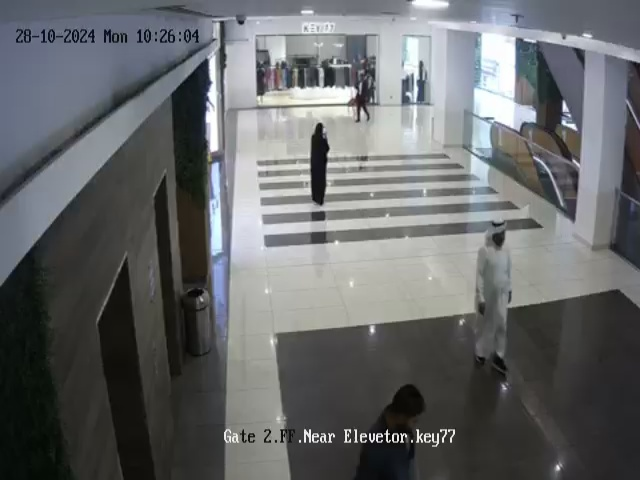female: (310, 123, 330, 207)
male: (352, 384, 427, 480), (472, 220, 512, 375), (354, 69, 371, 123)
other: (252, 65, 275, 119), (416, 50, 430, 109)
